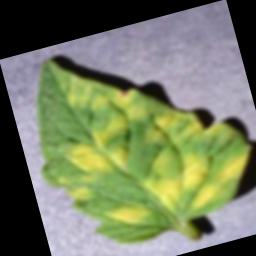Leaf_Mold: (31, 51, 172, 208), (125, 90, 256, 224), (104, 194, 158, 234)
